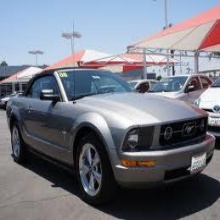no damage: (6, 67, 216, 203), (156, 74, 220, 116)
